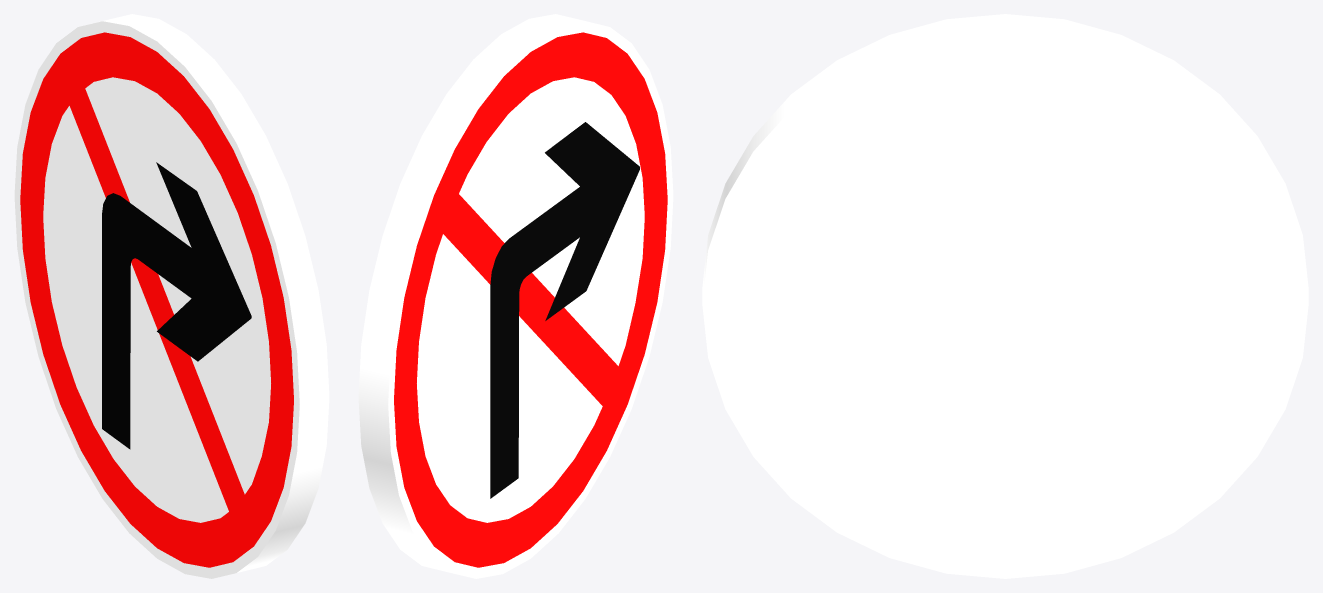
The model's file is No_Right_Turn.glb.
3 renders of one model, left to right at view 1: azimuth 30°, elevation 25°; view 2: azimuth 150°, elevation 25°; view 3: azimuth 270°, elevation 25°, orthographic. The views are drawn at different scales.
Visible parts, largest first — view 1: No_Right_Turn; view 2: No_Right_Turn; view 3: No_Right_Turn.
Part boxes in pixels (x1,y1,x2,y2): No_Right_Turn: (14,14,329,578); No_Right_Turn: (358,14,673,578); No_Right_Turn: (702,14,1308,578).
Bounding box in the file's own units: 0.075 × 1 × 1.
